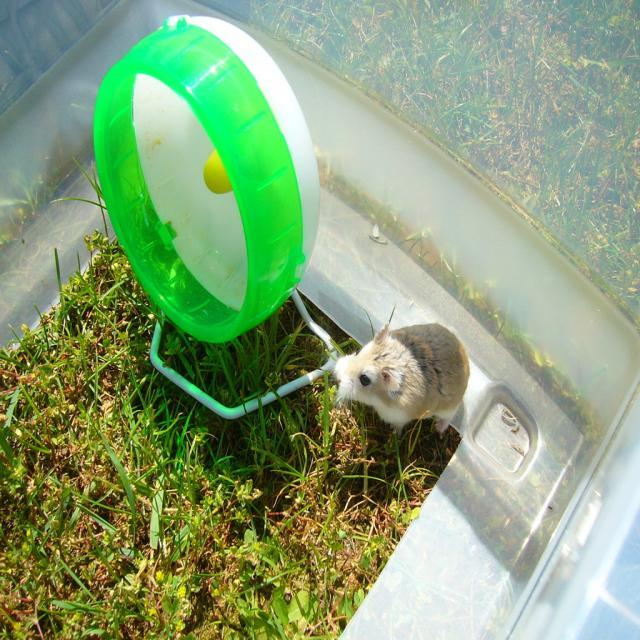rat: (329, 319, 474, 437)
